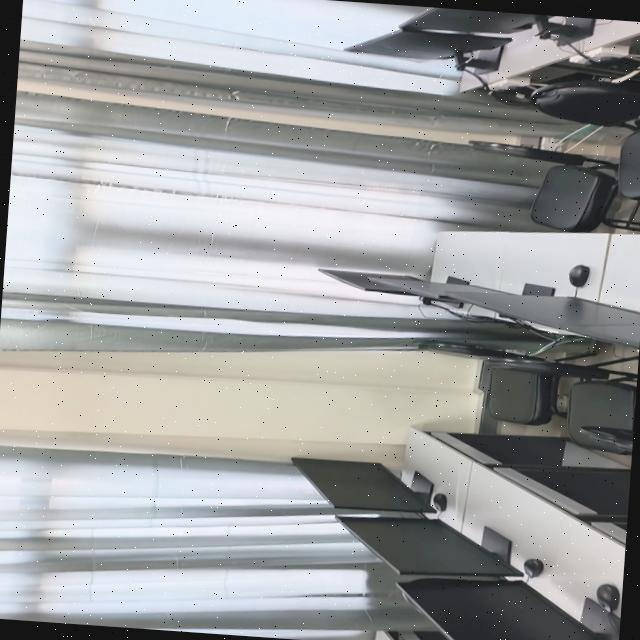Chair: (467, 140, 640, 232), (487, 360, 637, 454), (529, 81, 640, 200), (416, 343, 564, 425), (579, 425, 633, 453)
Monitor: (396, 578, 605, 640), (334, 516, 519, 578), (443, 286, 640, 329), (290, 458, 431, 512), (343, 28, 509, 59), (404, 7, 538, 33), (366, 275, 510, 299), (562, 315, 640, 350), (317, 269, 421, 295)
Mouse: (595, 583, 619, 611), (567, 264, 588, 287), (521, 558, 542, 577), (430, 493, 445, 512)
